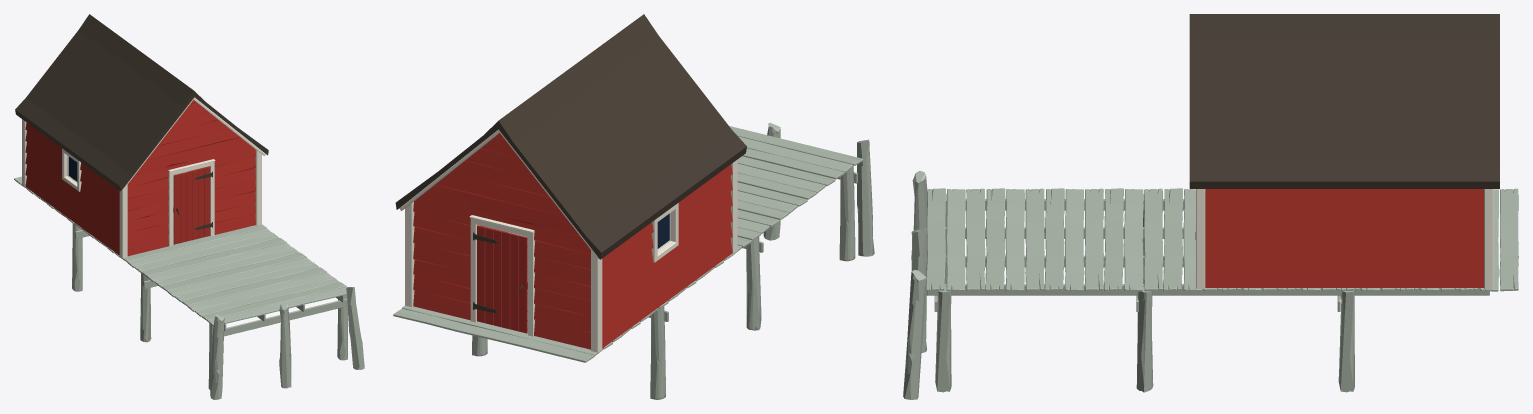
The model's file is fishingHut_original.glb.
3 views of the same model, side by side, from view 1: azimuth 30°, elevation 25°; view 2: azimuth 150°, elevation 25°; view 3: azimuth 270°, elevation 25° (orthographic). The views are drawn at different scales.
Parts seen in each view (by area): view 1: Roof.tile, planking.pier.final, hutEnd.seaside, hutwall, door, hutCorner, runner.supports.width, door.frame, pier post.003, pier post.004, pier post.002, pier post - short.006 (+4 smaller); view 2: Roof.tile, hutEnd.seaside, planking.pier.final, hutwall, door, hutCorner, door.frame, pier post.003, pier post - short.005, pier post - short.006, pier post - short.003, window.frame (+1 smaller); view 3: Roof.tile, planking.pier.final, hutwall, runner.supports.length, pier post.002, hutCorner, pier post - short.006, pier post - short.003, pier post - short.005, pier post.004, pier post.003.
Part boxes in pixels (left/top/right/bottom): Roof.tile: left=15, top=14, right=268, bottom=190; planking.pier.final: left=14, top=171, right=347, bottom=326; hutEnd.seaside: left=127, top=100, right=255, bottom=256; hutwall: left=25, top=122, right=206, bottom=255; door: left=173, top=166, right=210, bottom=244; hutCorner: left=22, top=119, right=261, bottom=258; runner.supports.width: left=75, top=230, right=347, bottom=338; door.frame: left=168, top=159, right=215, bottom=246; pier post.003: left=210, top=314, right=224, bottom=399; pier post.004: left=279, top=302, right=291, bottom=388; pier post.002: left=346, top=287, right=364, bottom=369; pier post - short.006: left=208, top=295, right=347, bottom=390; Roof.tile: left=395, top=14, right=746, bottom=259; hutEnd.seaside: left=413, top=133, right=590, bottom=349; planking.pier.final: left=393, top=126, right=863, bottom=362; hutwall: left=480, top=164, right=732, bottom=348; door: left=477, top=225, right=527, bottom=333; hutCorner: left=405, top=159, right=737, bottom=352; door.frame: left=469, top=215, right=534, bottom=336; pier post.003: left=857, top=139, right=874, bottom=256; pier post - short.005: left=472, top=306, right=665, bottom=399; pier post - short.006: left=839, top=166, right=855, bottom=261; pier post - short.003: left=746, top=236, right=761, bottom=330; window.frame: left=651, top=203, right=678, bottom=262; Roof.tile: left=1189, top=14, right=1499, bottom=188; planking.pier.final: left=926, top=188, right=1518, bottom=291; hutwall: left=1205, top=189, right=1483, bottom=287; runner.supports.length: left=927, top=199, right=1489, bottom=295; pier post.002: left=903, top=270, right=926, bottom=399; hutCorner: left=1196, top=189, right=1493, bottom=288; pier post - short.006: left=935, top=193, right=951, bottom=392; pier post - short.003: left=1136, top=194, right=1153, bottom=392; pier post - short.005: left=1338, top=290, right=1354, bottom=392; pier post.004: left=911, top=228, right=926, bottom=352; pier post.003: left=911, top=171, right=927, bottom=295.
Bounding box in the file's own units: 4.28 × 6.28 × 10.39.
1 material, 1 textured.
